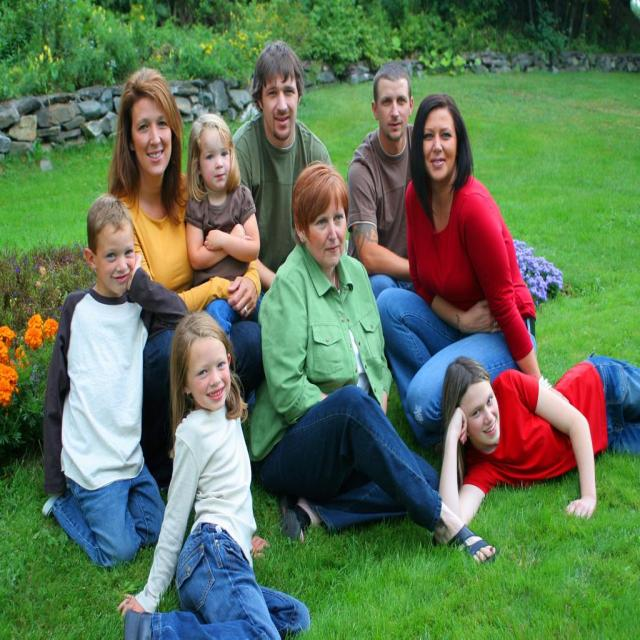Face: (69, 205, 143, 304), (294, 157, 355, 276), (181, 318, 250, 420), (114, 77, 180, 181), (252, 48, 311, 157), (418, 91, 471, 203), (368, 51, 415, 156), (454, 366, 508, 455), (193, 110, 239, 195)
